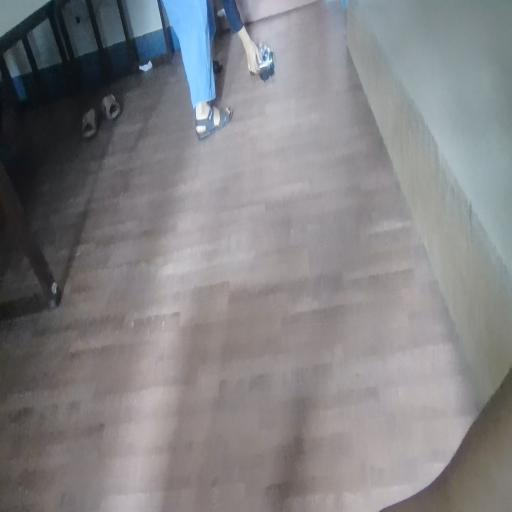car: (256, 41, 282, 91)
